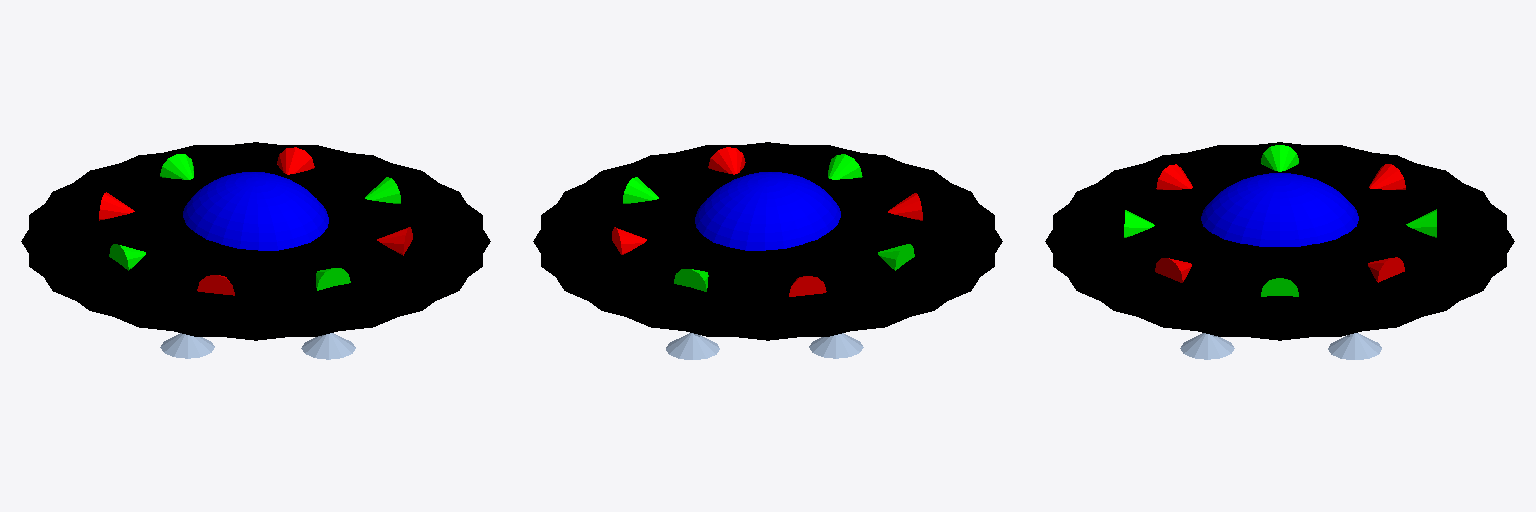
Rendered from ufo.obj.
3 views of the same model, side by side, from view 1: azimuth 30°, elevation 25°; view 2: azimuth 150°, elevation 25°; view 3: azimuth 270°, elevation 25° (orthographic).
Parts seen in each view (by area): view 1: Cone16, Sphere1, Cone17, Cone19, Cone2, Cone10, Cone31, Cone24, Cone28, Cone9, Cone11, Cone14 (+1 smaller); view 2: Cone16, Sphere1, Cone17, Cone4, Cone2, Cone29, Cone28, Cone24, Cone14, Cone31, Cone9, Cone11 (+1 smaller); view 3: Cone16, Sphere1, Cone17, Cone19, Cone4, Cone9, Cone14, Cone11, Cone29, Cone10, Cone24.
Boxes of the visible parts, box(x1,y1,x2,y2) form: Cone16: box(21, 142, 490, 340); Sphere1: box(183, 172, 328, 250); Cone17: box(29, 145, 482, 336); Cone19: box(301, 333, 355, 359); Cone2: box(160, 333, 214, 358); Cone10: box(277, 147, 314, 174); Cone31: box(160, 154, 193, 179); Cone24: box(365, 177, 400, 203); Cone28: box(316, 268, 350, 290); Cone9: box(109, 244, 145, 270); Cone11: box(197, 275, 234, 295); Cone14: box(99, 192, 134, 220); Cone16: box(533, 142, 1002, 340); Sphere1: box(695, 172, 840, 250); Cone17: box(541, 145, 994, 336); Cone4: box(666, 333, 719, 359); Cone2: box(809, 333, 863, 358); Cone29: box(708, 147, 745, 174); Cone28: box(828, 154, 862, 179); Cone24: box(623, 177, 658, 203); Cone14: box(789, 276, 826, 296); Cone31: box(674, 269, 708, 291); Cone9: box(878, 244, 914, 270); Cone11: box(888, 193, 922, 220); Cone16: box(1045, 142, 1514, 340); Sphere1: box(1201, 173, 1358, 246); Cone17: box(1053, 145, 1506, 336); Cone19: box(1180, 333, 1234, 359); Cone4: box(1328, 333, 1381, 359); Cone9: box(1261, 145, 1298, 171); Cone14: box(1369, 164, 1405, 189); Cone11: box(1156, 164, 1192, 189); Cone29: box(1155, 258, 1191, 282); Cone10: box(1368, 257, 1404, 282); Cone24: box(1261, 278, 1298, 296).
Bounding box in the file's own units: 6 × 2.1 × 6.